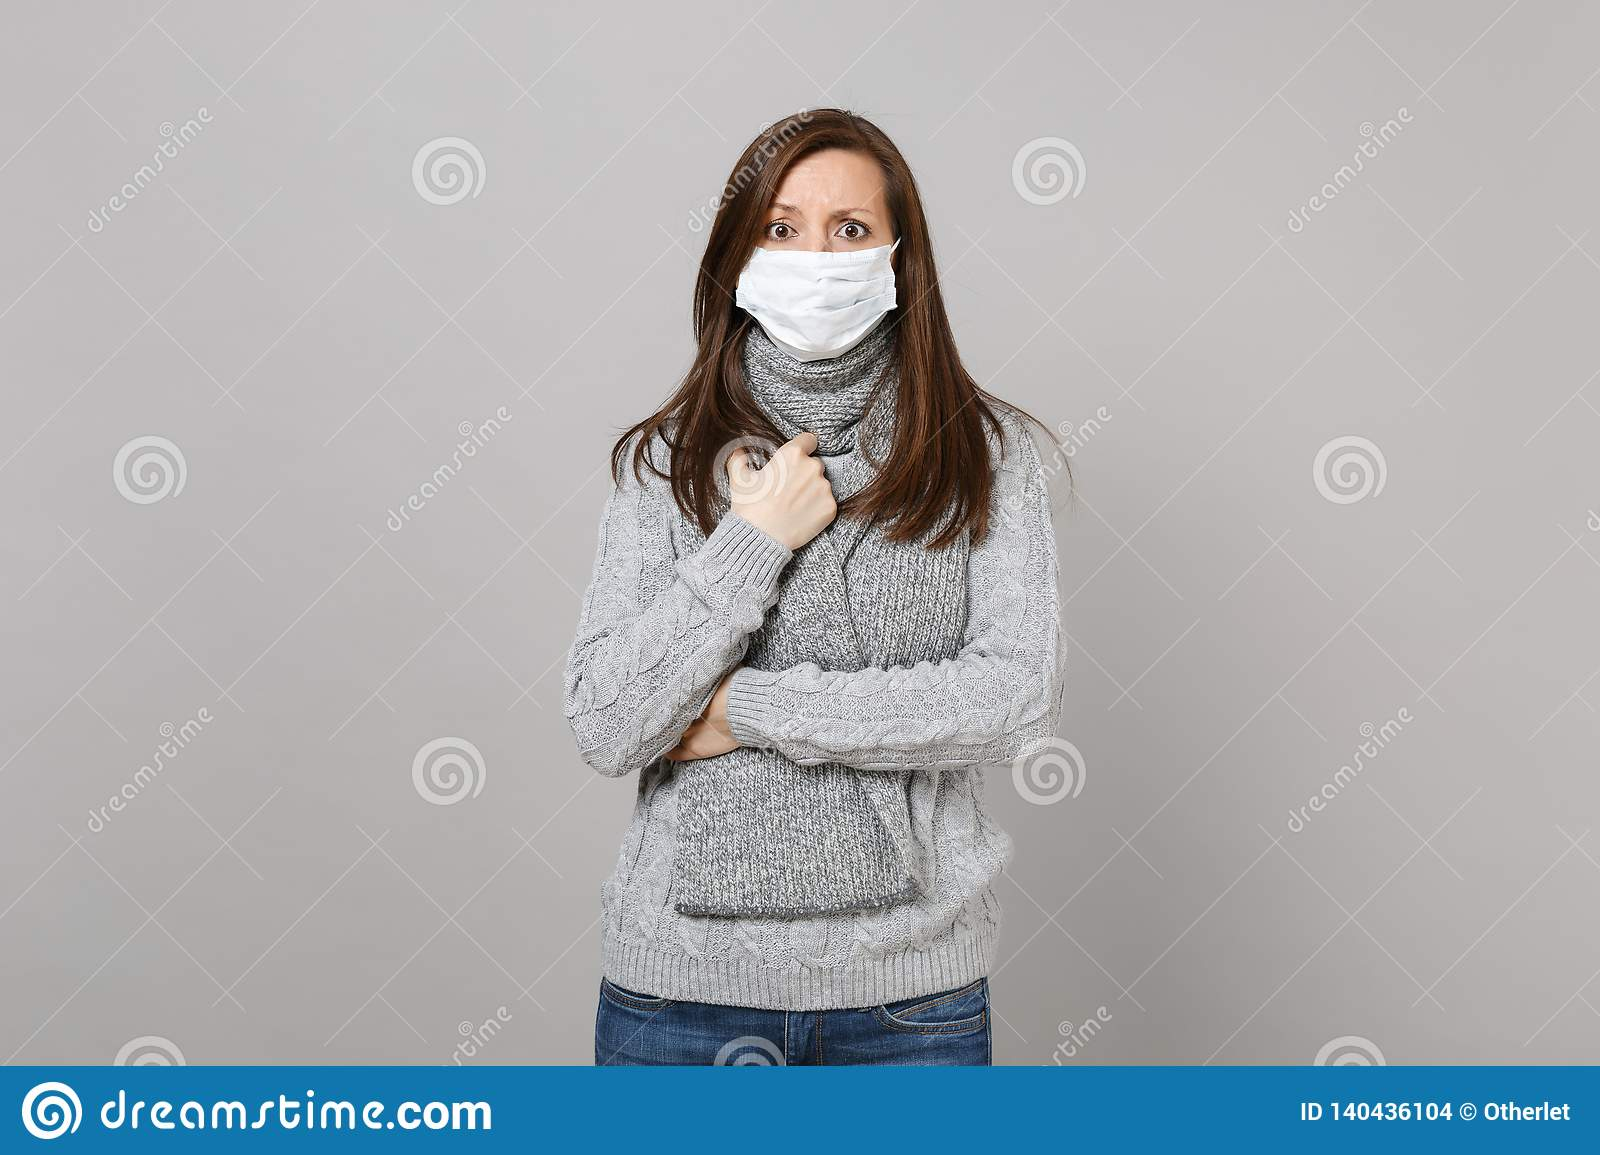mask: (735, 242, 899, 364)
